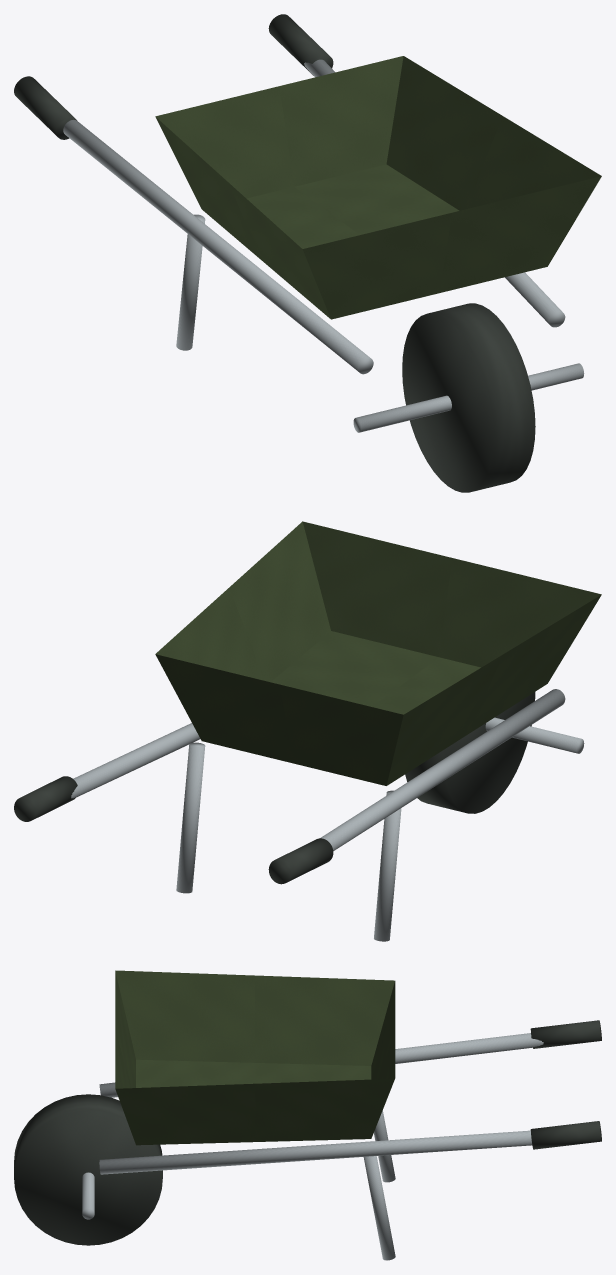
File: barrow.glb
The picture shows the model from 3 angles, top to bottom: view 1: azimuth 30°, elevation 25°; view 2: azimuth 150°, elevation 25°; view 3: azimuth 270°, elevation 25°; orthographic projection. The views are drawn at different scales.
Parts seen in each view (by area): view 1: barrow tray, wheel, handle rail, axle, standing leg, rubber handle, rubber handle.001, handle rail.001; view 2: barrow tray, handle rail, wheel, handle rail.001, standing leg.001, standing leg, rubber handle, rubber handle.001, axle; view 3: barrow tray, wheel, handle rail.001, handle rail, rubber handle.001, standing leg.001, rubber handle, standing leg, axle.
Boxes of the visible parts, box(x1,y1,x2,y2) form: barrow tray: box(155, 56, 601, 319); wheel: box(402, 303, 535, 492); handle rail: box(63, 119, 373, 374); axle: box(353, 363, 584, 432); standing leg: box(176, 214, 205, 350); rubber handle: box(14, 76, 77, 139); rubber handle.001: box(268, 14, 333, 75); handle rail.001: box(304, 59, 565, 327); barrow tray: box(155, 521, 601, 785); handle rail: box(320, 689, 565, 850); wheel: box(405, 692, 535, 813); handle rail.001: box(71, 723, 200, 798); standing leg.001: box(176, 742, 205, 893); standing leg: box(374, 790, 401, 941); rubber handle: box(268, 838, 333, 884); rubber handle.001: box(14, 776, 77, 821); axle: box(485, 717, 584, 753); barrow tray: box(115, 970, 395, 1145); wheel: box(14, 1094, 162, 1245); handle rail.001: box(99, 1130, 532, 1174); handle rail: box(99, 1033, 543, 1097); rubber handle.001: box(530, 1121, 601, 1149); standing leg.001: box(363, 1156, 395, 1260); rubber handle: box(530, 1020, 601, 1048); standing leg: box(374, 1110, 395, 1182); axle: box(82, 1172, 94, 1219).
Size of the model in its own units: 0.94 by 0.77 by 1.97.
3 materials, 3 textured.
